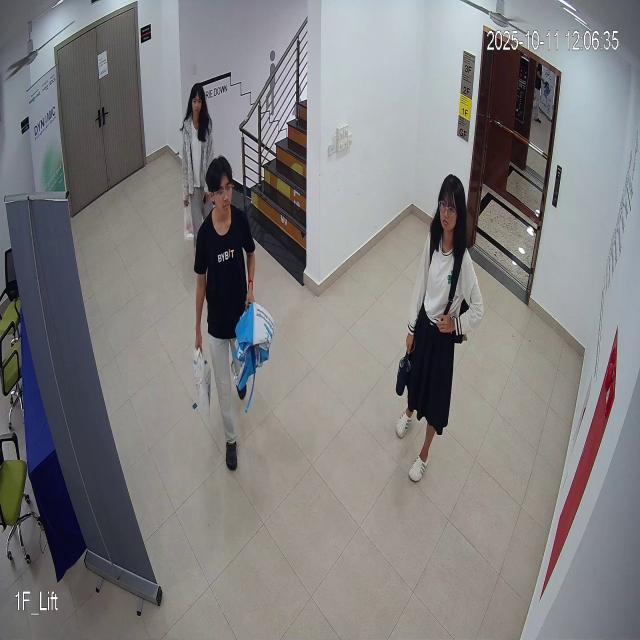face: (201, 149, 240, 218), (435, 165, 466, 249), (187, 80, 208, 121)
